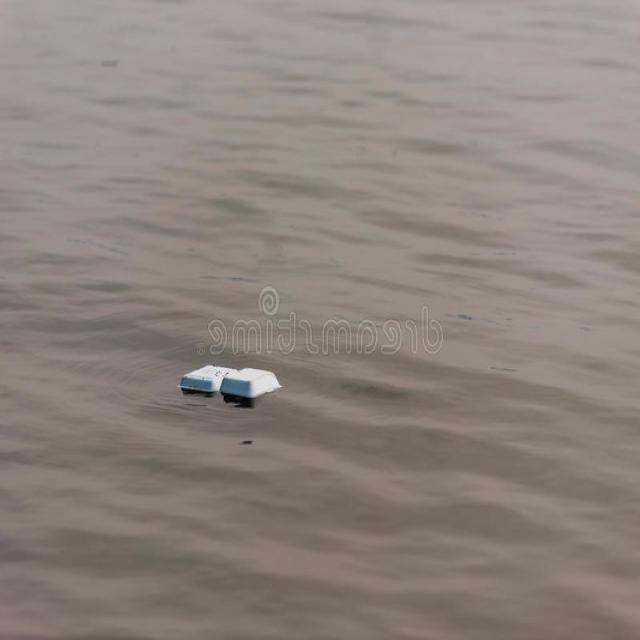Plastic: (220, 364, 282, 406), (177, 357, 226, 401)
